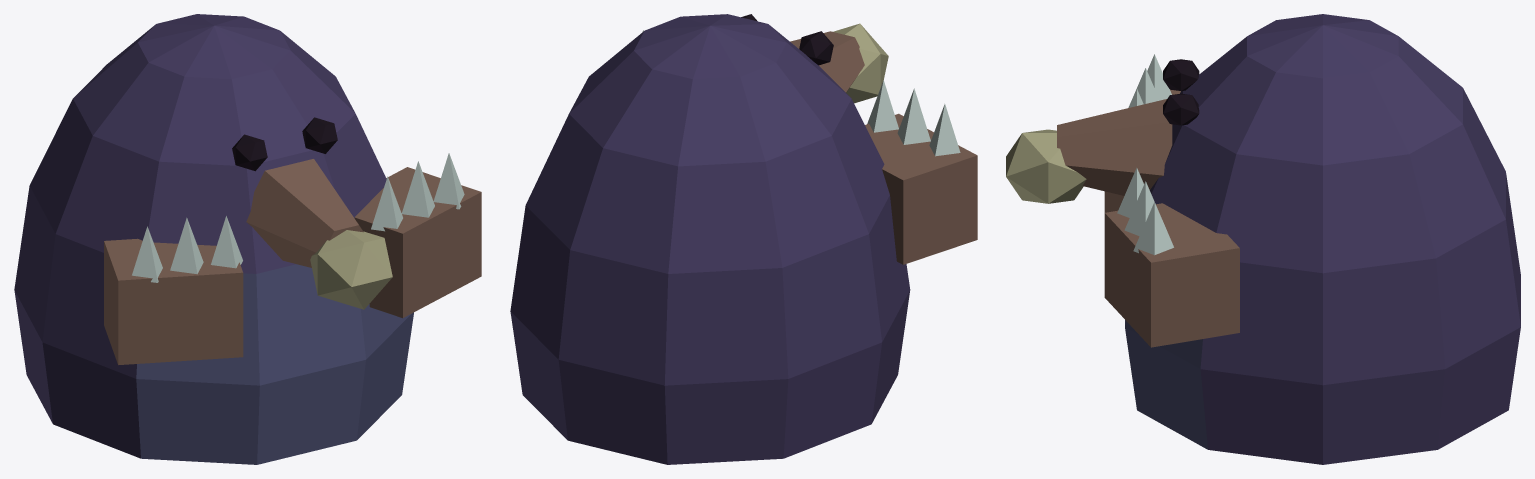
Rendered from mole.glb.
3 views of the same model, side by side, from view 1: azimuth 30°, elevation 25°; view 2: azimuth 150°, elevation 25°; view 3: azimuth 270°, elevation 25° (orthographic).
Visible parts, largest first — view 1: Body, PawL, PawR, Snout, Nose, Claw4, Claw1, Claw3, EyeL, EyeR, Claw0, Claw5 (+1 smaller); view 2: Body, PawL, Nose, Snout, Claw1, Claw2, Claw0, EyeL; view 3: Body, PawR, Snout, Nose, Claw5, EyeR, EyeL, Claw4, Claw3, Claw0.
Part boxes in pixels (bbox=[...]): Body: bbox=[14, 14, 413, 464]; PawL: bbox=[104, 238, 243, 364]; PawR: bbox=[354, 167, 481, 318]; Snout: bbox=[246, 159, 363, 267]; Nose: bbox=[310, 230, 392, 309]; Claw4: bbox=[401, 161, 434, 217]; Claw1: bbox=[170, 217, 203, 274]; Claw3: bbox=[371, 176, 402, 231]; EyeL: bbox=[232, 134, 267, 171]; EyeR: bbox=[302, 117, 337, 153]; Claw0: bbox=[132, 226, 162, 282]; Claw5: bbox=[433, 153, 464, 209]; Body: bbox=[510, 14, 910, 464]; PawL: bbox=[865, 113, 977, 264]; Nose: bbox=[833, 23, 888, 103]; Snout: bbox=[790, 31, 864, 92]; Claw1: bbox=[897, 88, 930, 144]; Claw2: bbox=[867, 80, 898, 132]; Claw0: bbox=[929, 104, 960, 156]; EyeL: bbox=[799, 31, 833, 65]; Body: bbox=[1125, 14, 1520, 464]; PawR: bbox=[1104, 203, 1239, 347]; Snout: bbox=[1057, 99, 1172, 195]; Nose: bbox=[1006, 129, 1086, 203]; Claw5: bbox=[1133, 202, 1173, 255]; EyeR: bbox=[1163, 93, 1199, 125]; EyeL: bbox=[1163, 59, 1199, 90]; Claw4: bbox=[1124, 181, 1154, 236]; Claw3: bbox=[1117, 167, 1143, 217]; Claw0: bbox=[1147, 54, 1171, 100].
Size of the model in its own units: 0.5182 by 0.4896 by 0.6334.
